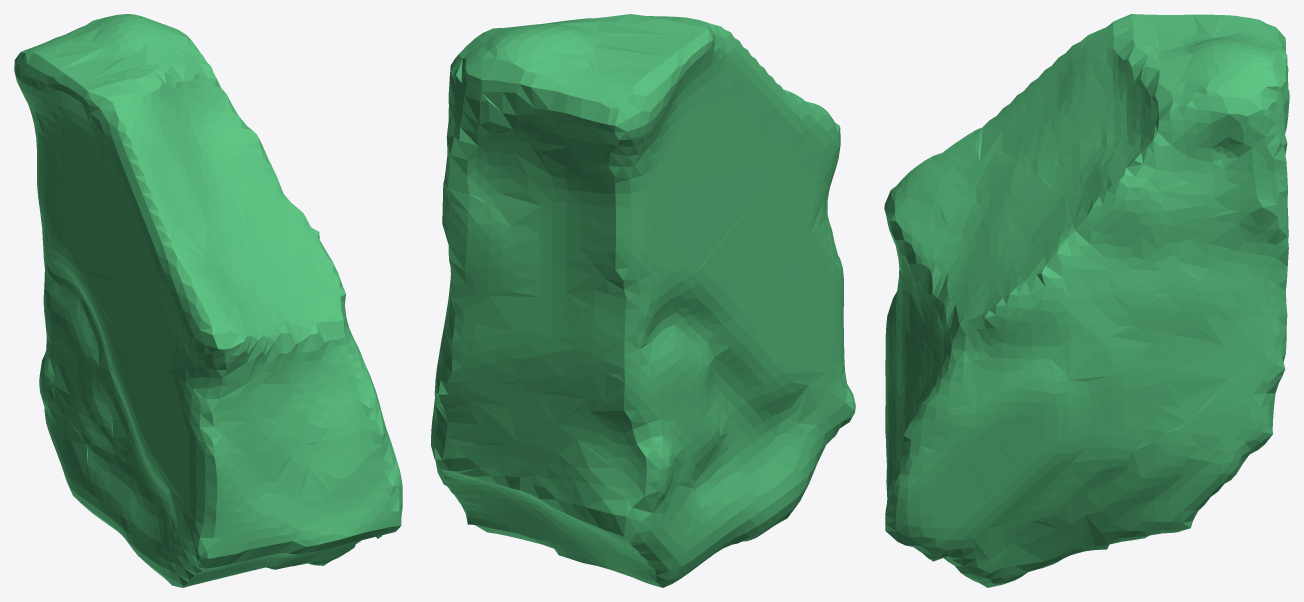
The model's file is Model_66_RH__Area_32_of_cortex_(A32).obj.
The picture shows the model from 3 angles, left to right: view 1: azimuth 30°, elevation 25°; view 2: azimuth 150°, elevation 25°; view 3: azimuth 270°, elevation 25°; orthographic projection. The views are drawn at different scales.
Bounding box in the file's own units: 1.9 × 3.99 × 2.93.
